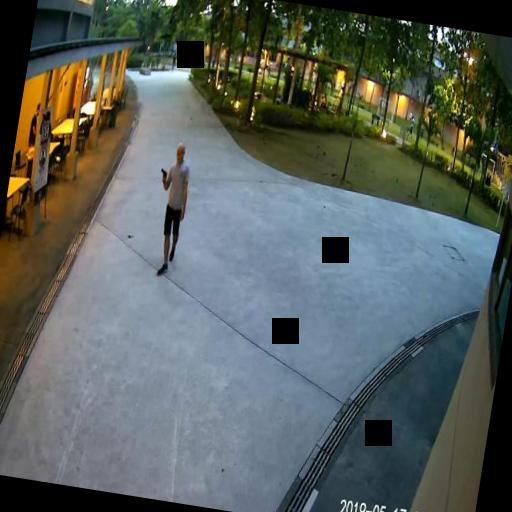Handgun: (158, 166, 166, 182)
